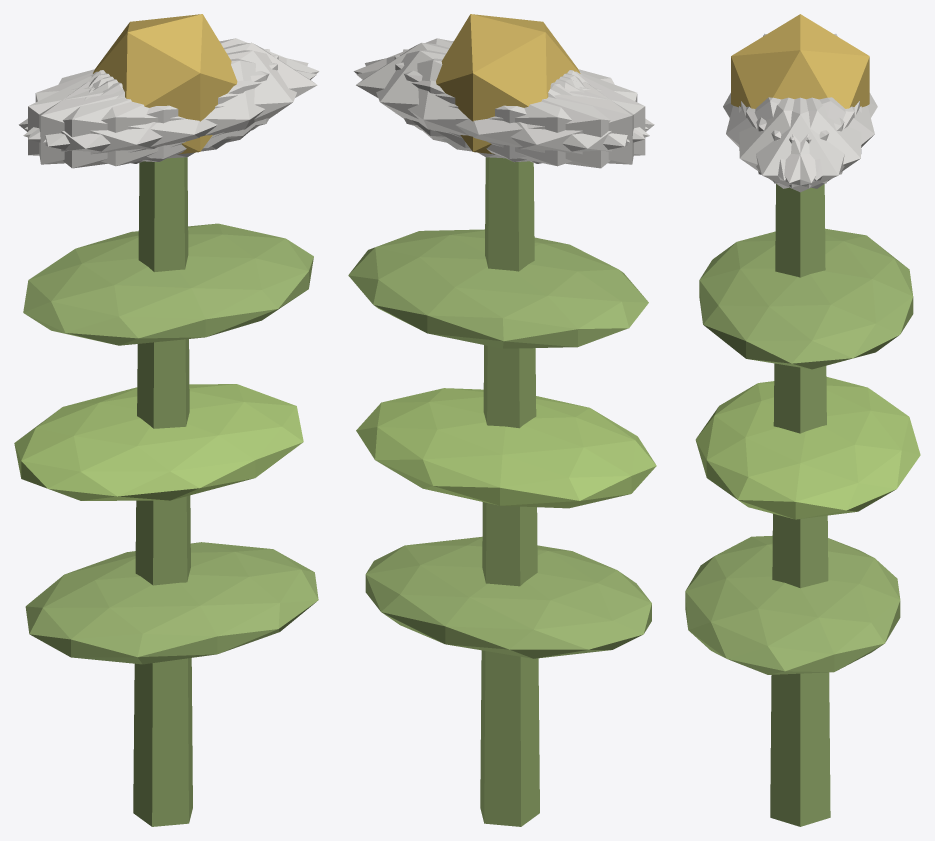
The model's file is balete.glb.
3 renders of one model, left to right at view 1: azimuth 30°, elevation 25°; view 2: azimuth 150°, elevation 25°; view 3: azimuth 270°, elevation 25°, orthographic.
Parts seen in each view (by area): view 1: leaf0, leaf2, stem, leaf1, center, petal1, petal6, petal2, petal5, petal7, petal0, petal4 (+2 smaller); view 2: leaf1, leaf2, leaf0, stem, center, petal8, petal3, petal7, petal4, petal2, petal0, petal5 (+2 smaller); view 3: leaf2, leaf1, leaf0, stem, center, petal0, petal4, petal5, petal8, petal1.
Part boxes in pixels (box(x1,y1,x2,y2)): leaf0: box(25, 542, 318, 664); leaf2: box(23, 223, 313, 345); stem: box(133, 157, 192, 826); leaf1: box(14, 384, 303, 500); center: box(93, 14, 237, 154); petal1: box(23, 58, 316, 166); petal6: box(19, 71, 231, 168); petal2: box(39, 49, 270, 164); petal5: box(43, 50, 308, 158); petal7: box(28, 55, 278, 161); petal0: box(92, 42, 317, 148); petal4: box(24, 38, 319, 139); leaf1: box(356, 388, 656, 508); leaf2: box(348, 229, 648, 348); leaf0: box(365, 536, 651, 658); stem: box(480, 157, 539, 826); center: box(436, 14, 580, 154); petal8: box(356, 58, 649, 166); petal3: box(442, 71, 654, 168); petal7: box(403, 49, 633, 164); petal4: box(365, 50, 629, 158); petal2: box(394, 55, 645, 162); petal0: box(356, 42, 580, 148); petal5: box(354, 38, 648, 139); leaf2: box(699, 228, 913, 369); leaf1: box(695, 377, 920, 519); leaf0: box(685, 535, 900, 674); stem: box(770, 184, 830, 826); center: box(731, 14, 869, 108); petal0: box(741, 97, 859, 192); petal4: box(746, 97, 861, 188); petal5: box(739, 97, 854, 188); petal8: box(756, 97, 874, 180); petal1: box(726, 97, 844, 180).
Bounding box in the file's own units: 0.1452 × 0.3803 × 0.1038.
